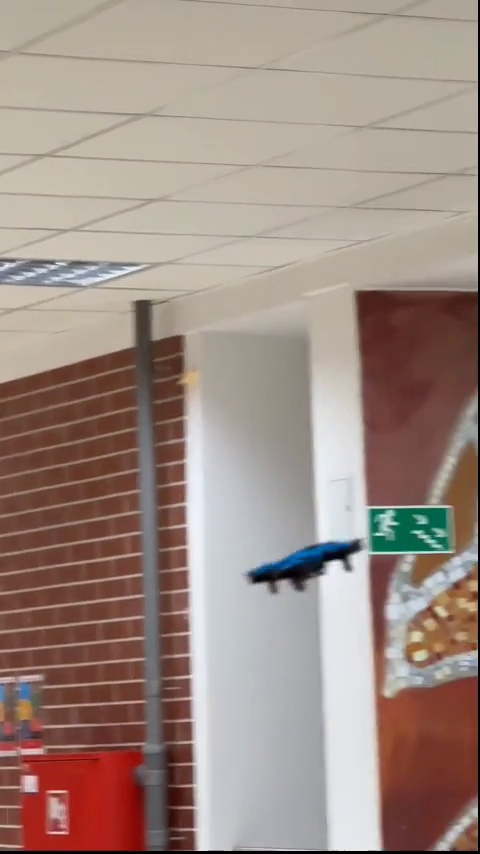drone: (243, 537, 367, 594)
